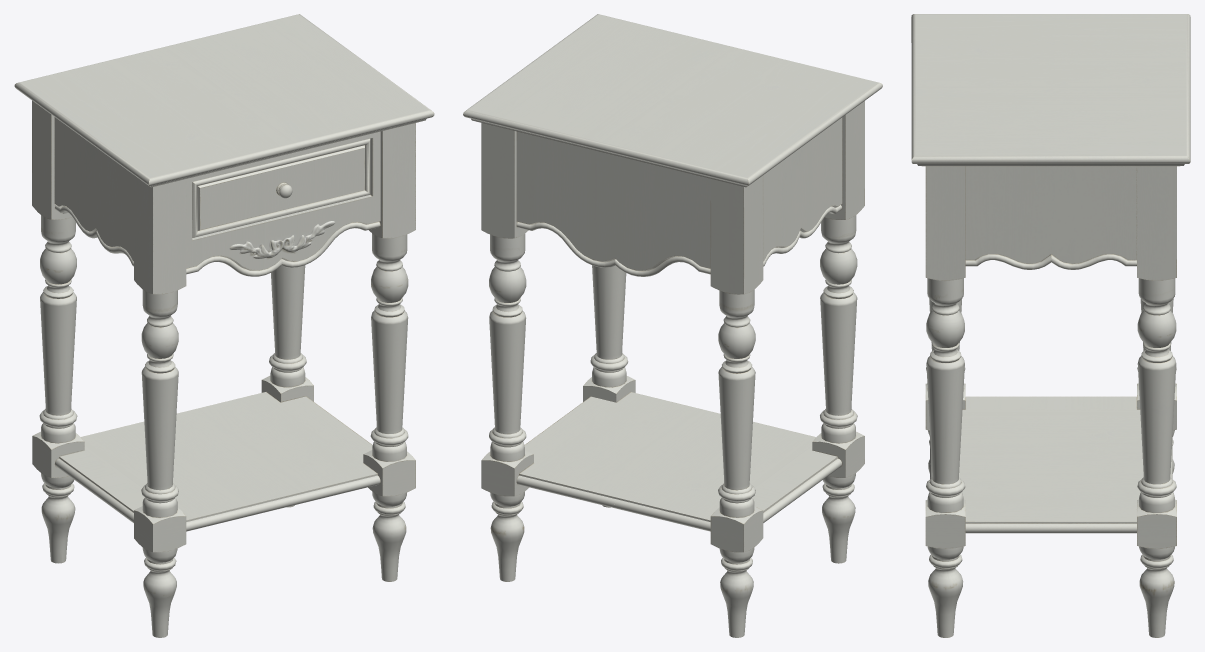
The model's file is example170.gltf.
3 renders of one model, left to right at view 1: azimuth 30°, elevation 25°; view 2: azimuth 150°, elevation 25°; view 3: azimuth 270°, elevation 25°, orthographic. The views are drawn at different scales.
Size of the model in its own units: 42.98 by 68 by 34.98.
Materials: 2 (1 with a texture image).
